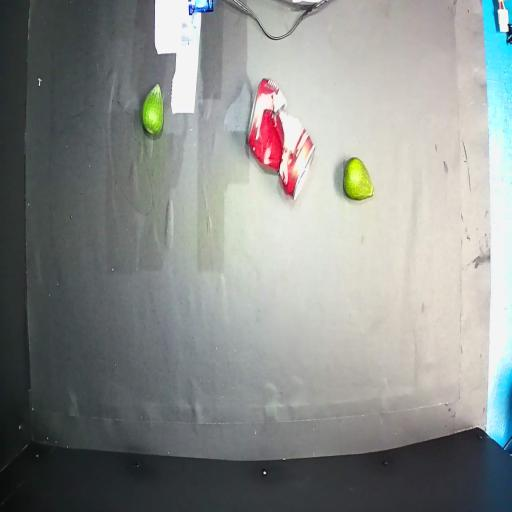higo: (248, 113, 285, 171), (275, 135, 305, 200), (341, 157, 374, 200), (141, 85, 164, 134), (256, 107, 267, 119)
lata_defectuoso: (247, 79, 315, 200)
